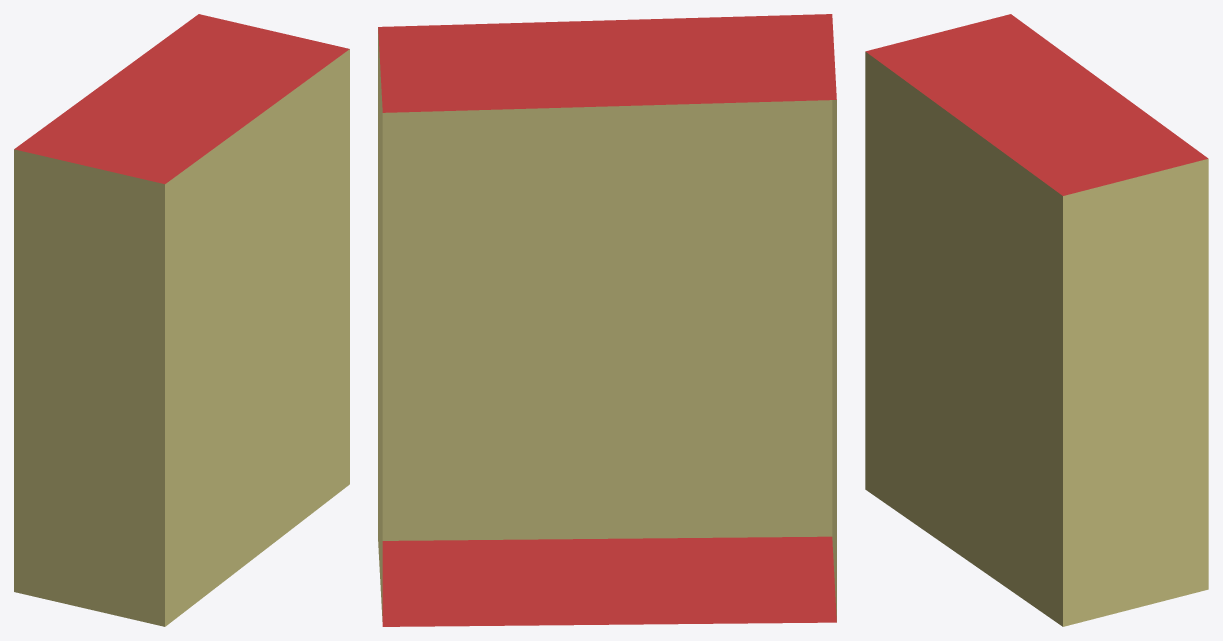
The picture shows the model from 3 angles, left to right: view 1: azimuth 30°, elevation 25°; view 2: azimuth 150°, elevation 25°; view 3: azimuth 270°, elevation 25°; orthographic projection. The views are drawn at different scales.
Size of the model in its own units: 8.16 by 6.77 by 9.53.
